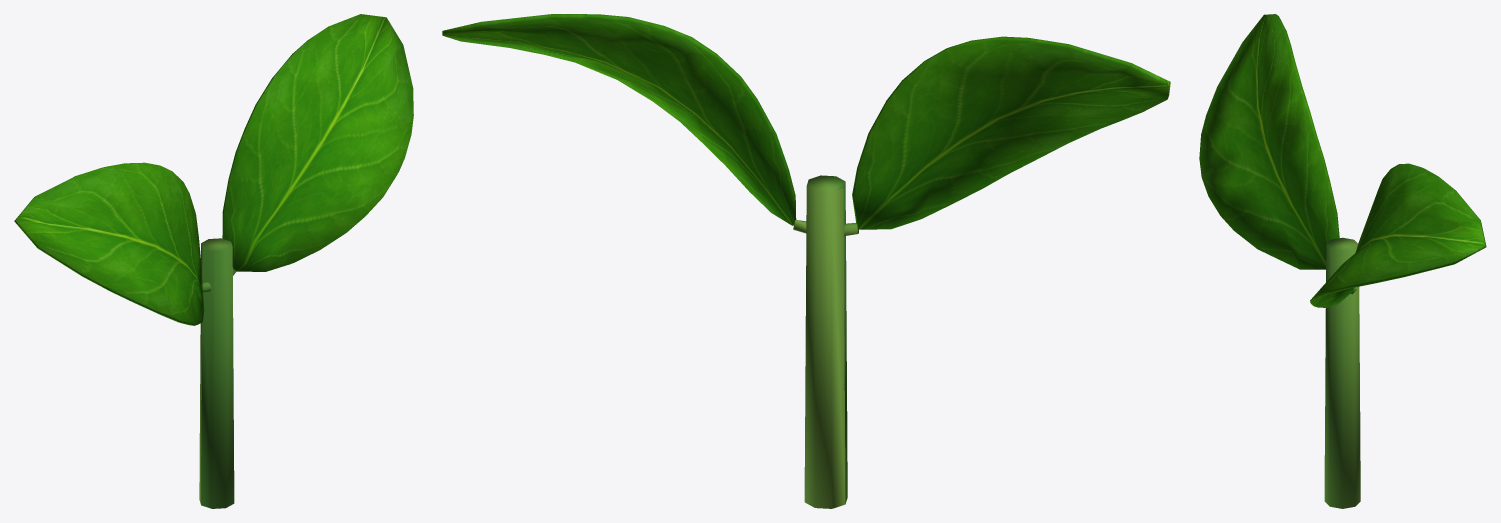
The model's file is NP_Hibiscus_Sprout_LOD1.fbx.
3 views of the same model, side by side, from view 1: azimuth 30°, elevation 25°; view 2: azimuth 150°, elevation 25°; view 3: azimuth 270°, elevation 25° (orthographic). The views are drawn at different scales.
Visible parts, largest first — view 1: NP_Hibiscus_Sprout; view 2: NP_Hibiscus_Sprout; view 3: NP_Hibiscus_Sprout.
Part boxes in pixels (bbox=[...]): NP_Hibiscus_Sprout: bbox=[14, 14, 413, 508]; NP_Hibiscus_Sprout: bbox=[442, 14, 1170, 508]; NP_Hibiscus_Sprout: bbox=[1199, 14, 1486, 508].
Size of the model in its own units: 24.59 by 19.2 by 12.68.
